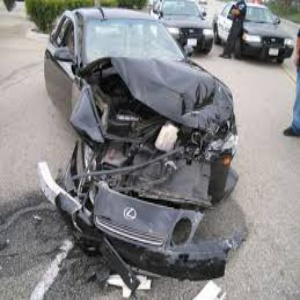bonnet: (102, 53, 227, 126)
bumper: (61, 155, 230, 275)
